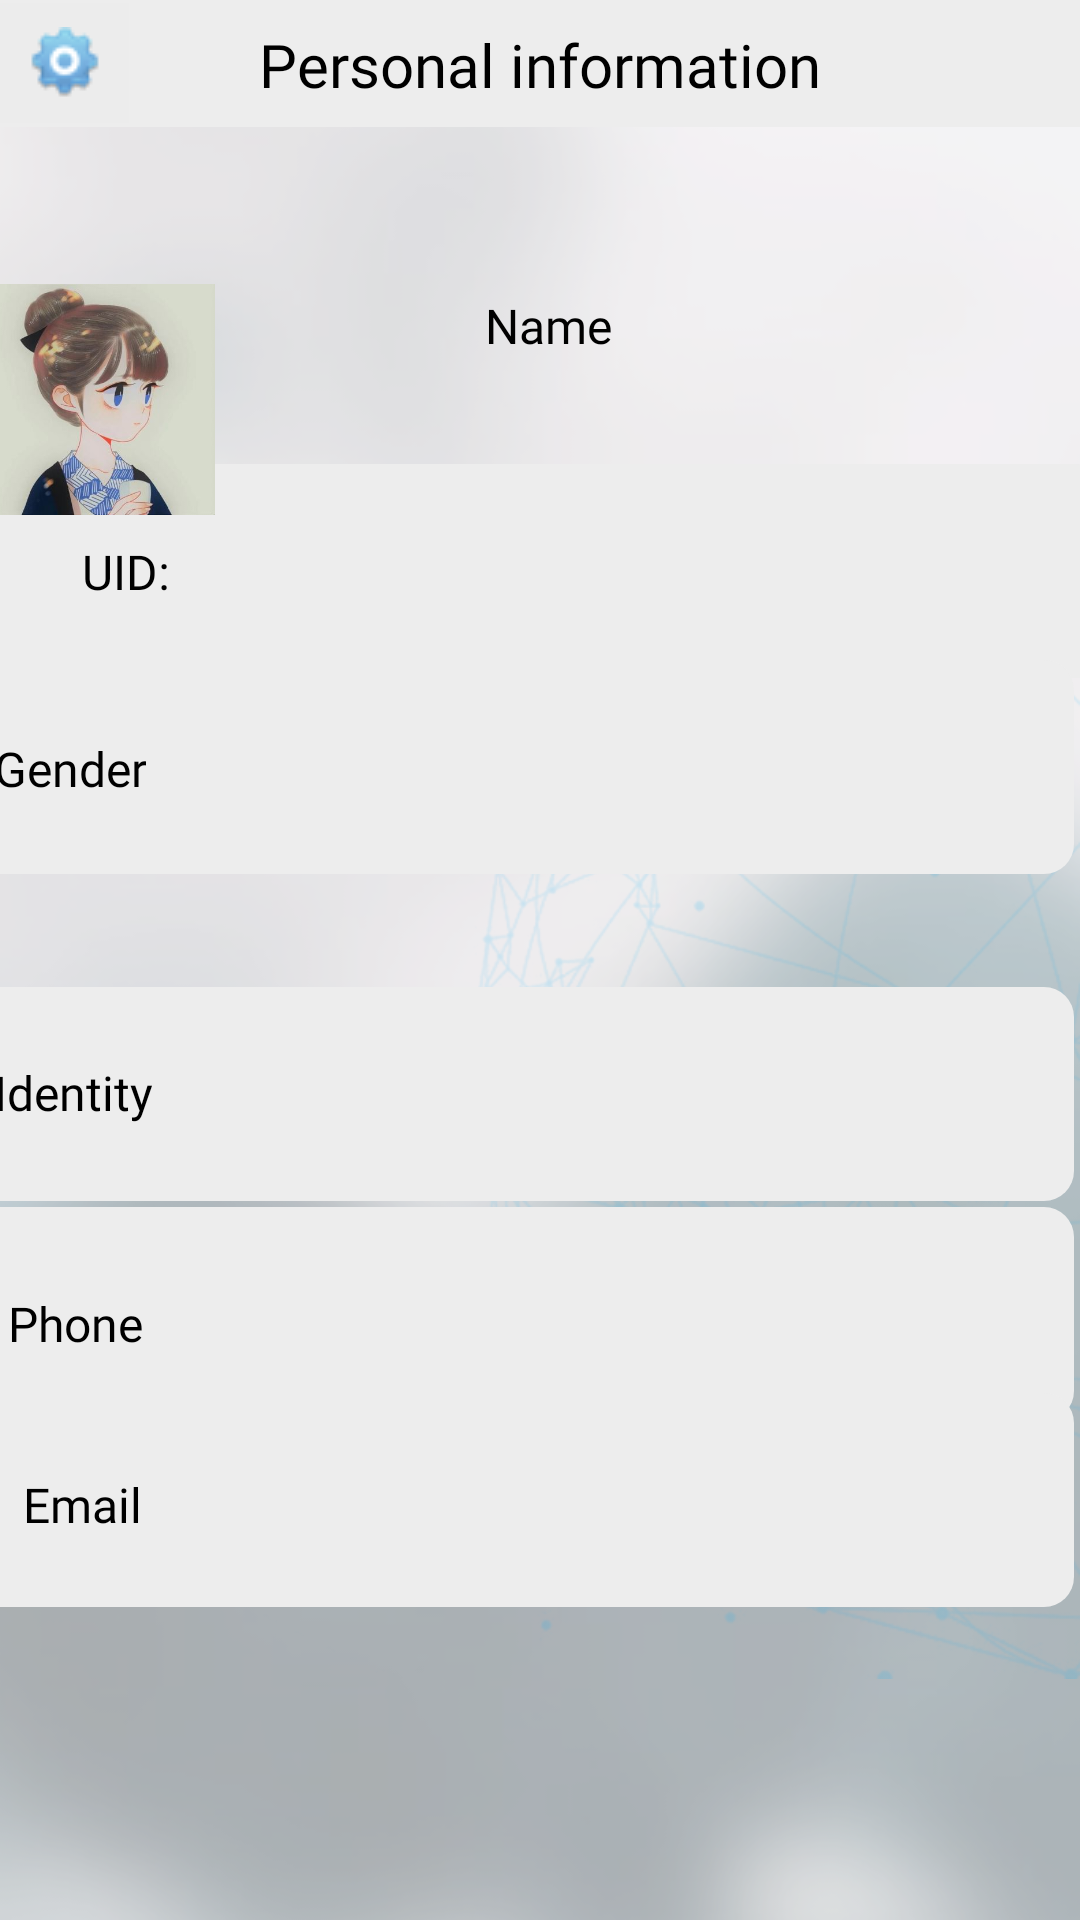

Where to tap for icons on this 1080*1920 app screen, as (x,y):
setting: (65,61)
